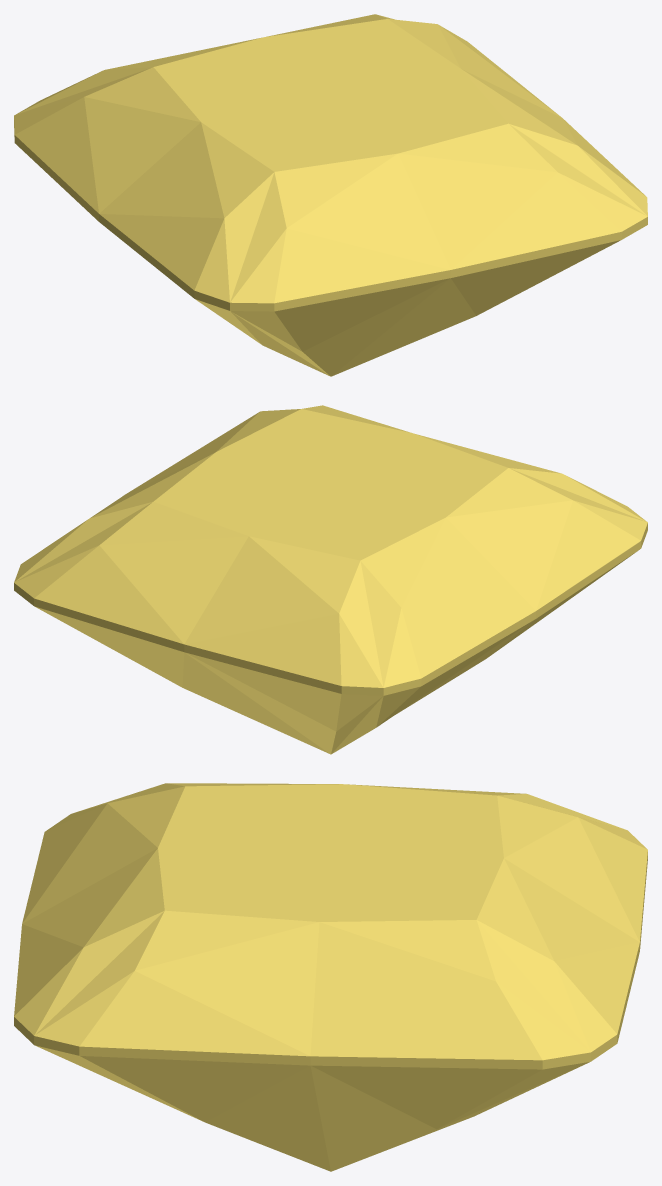
Rendered from stone-fancy-color-diamond.glb.
The picture shows the model from 3 angles, top to bottom: view 1: azimuth 30°, elevation 25°; view 2: azimuth 150°, elevation 25°; view 3: azimuth 270°, elevation 25°; orthographic projection. The views are drawn at different scales.
Visible parts, largest first — view 1: Gemstone Fancy Color Diamond; view 2: Gemstone Fancy Color Diamond; view 3: Gemstone Fancy Color Diamond.
Boxes of the visible parts, <box> form: Gemstone Fancy Color Diamond: <box>14,14,647,376</box>; Gemstone Fancy Color Diamond: <box>14,405,647,754</box>; Gemstone Fancy Color Diamond: <box>14,783,647,1171</box>.
Bounding box in the file's own units: 2.06 × 1.2 × 2.17.
